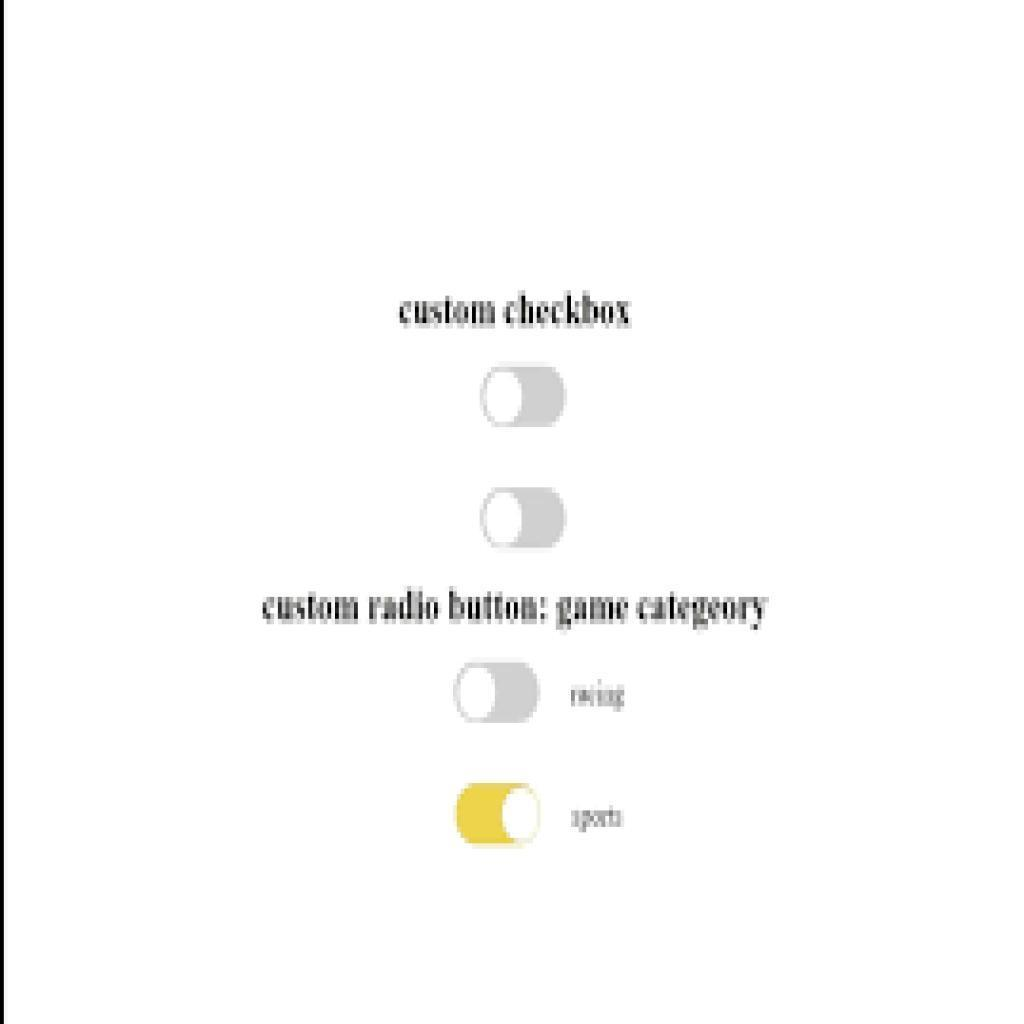switch: (481, 370, 568, 430), (457, 664, 541, 725), (483, 489, 566, 550), (458, 787, 541, 846)
